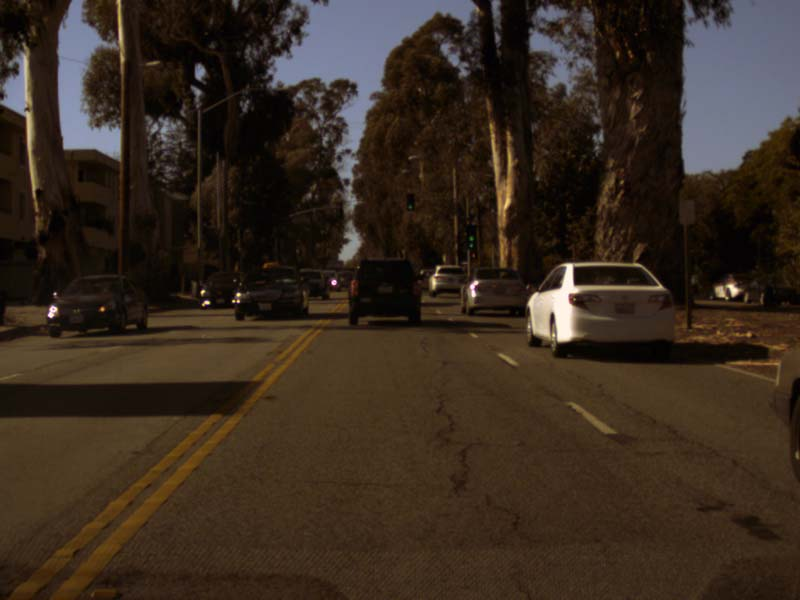Green: (466, 226, 475, 249), (407, 193, 414, 210)
